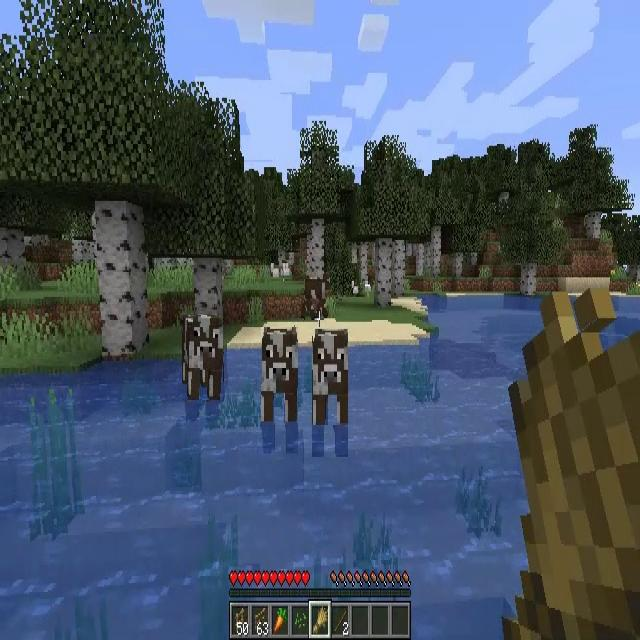cow: (261, 327, 298, 423), (182, 315, 223, 400), (313, 328, 348, 425), (306, 276, 330, 320)
duck: (271, 262, 279, 284), (282, 260, 289, 282), (351, 280, 359, 299), (364, 281, 370, 298)
